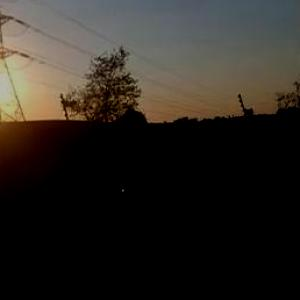follow: (99, 106, 180, 299)
